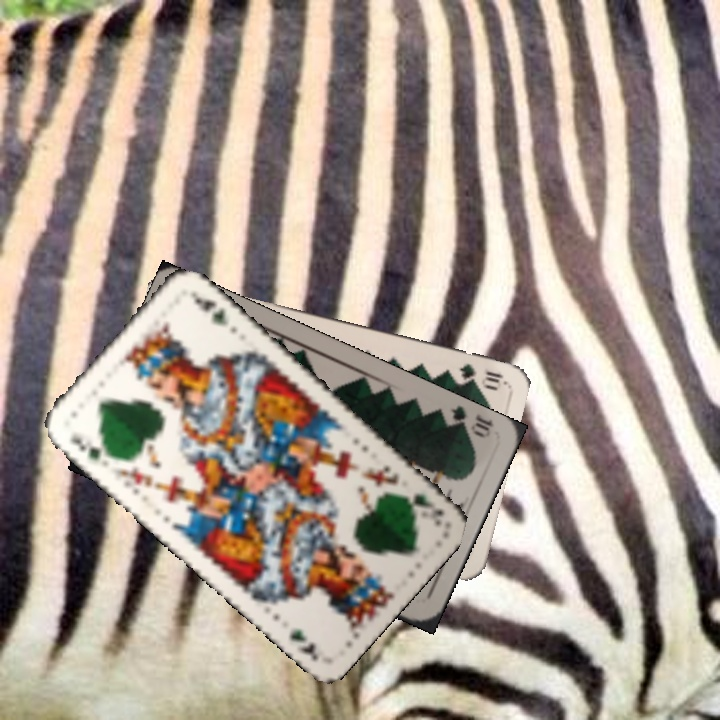G10: (438, 402, 497, 441), (455, 360, 507, 391)
GK: (397, 488, 448, 528), (66, 433, 115, 463)
